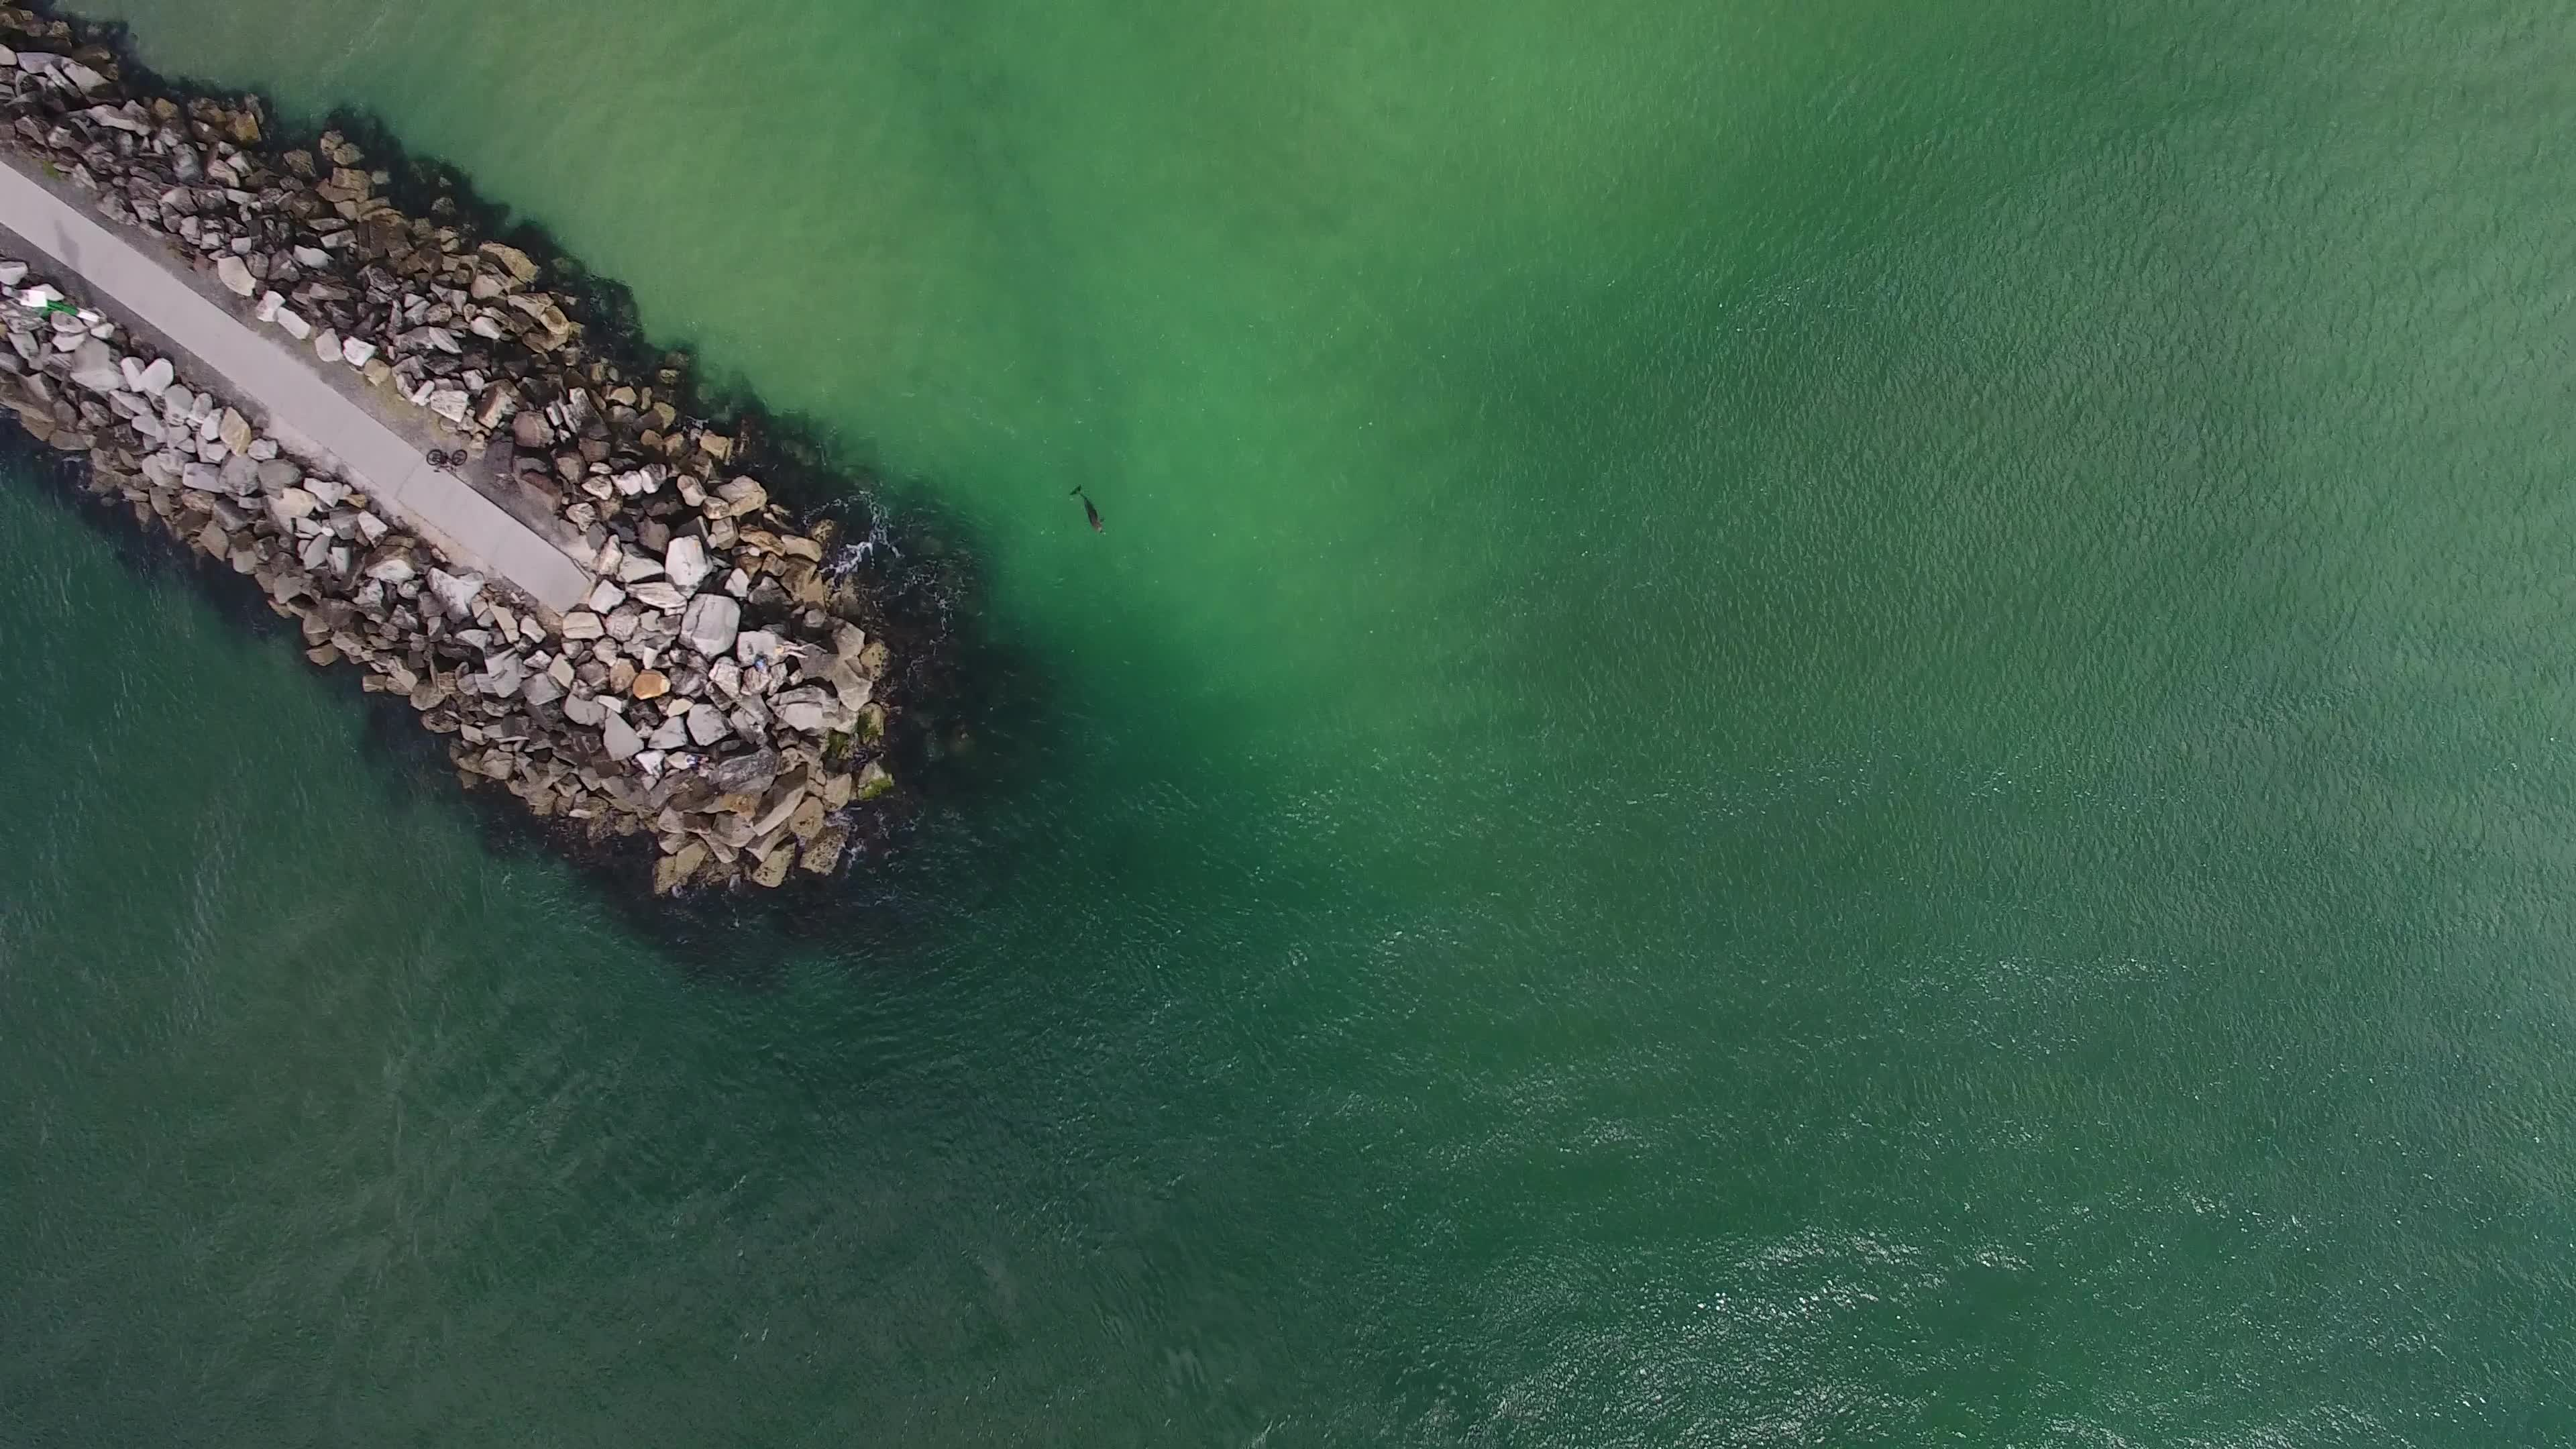dolphin: (1051, 472, 1120, 541)
